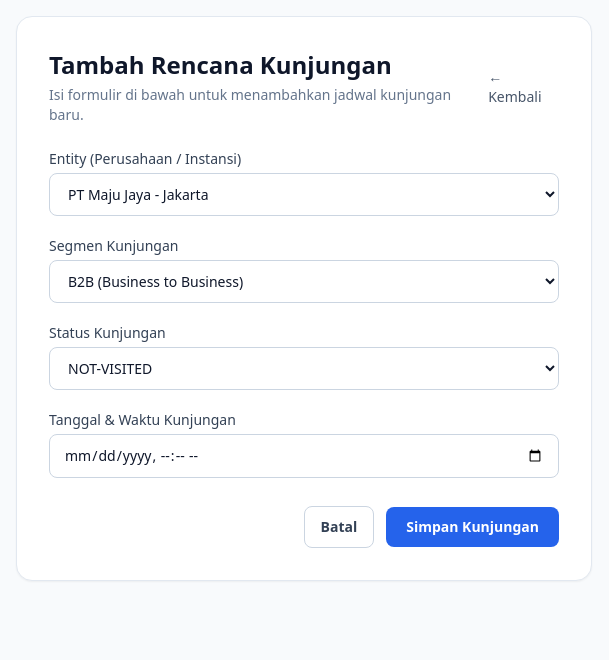
Test: TambahPengunjungPage (Halaman Tambah Rencana Kunjungan) › 2. Validasi Input (Client-side Validation) › menampilkan pesan error validasi apabila Segmen bukan bernilai B2B atau B2G dan tidak memanggil API POST
The width and height of the screenshot is (609, 660).
Check: the dropdown labelled "Entity (Perusahaan / Instansi)" shows "PT Maju Jaya - Jakarta", box x1=49 y1=173 x2=559 y2=216
Note: Isi tanggal kunjungan dengan nilai valid
In the field labelled "Tanggal & Waktu Kunjungan": (304, 456) x1=49 y1=434 x2=559 y2=478, type "2026-11-20T10:30"
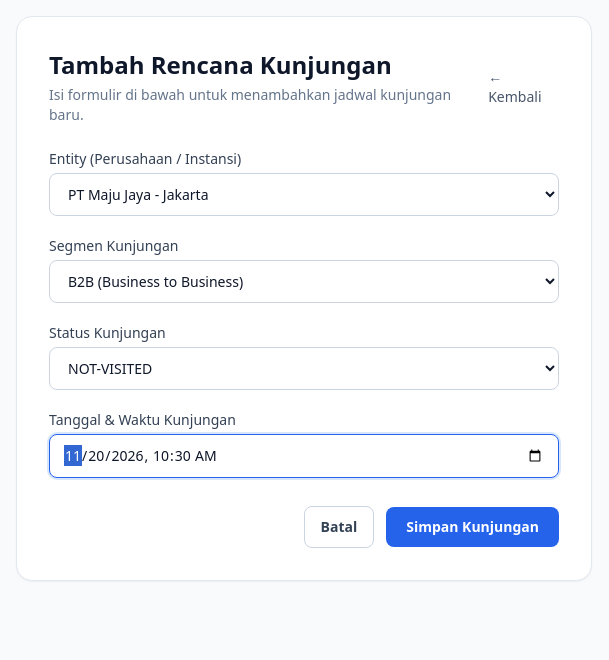
Select "B2C" in the dropdown labelled "Segmen Kunjungan": (304, 282) x1=49 y1=260 x2=559 y2=303
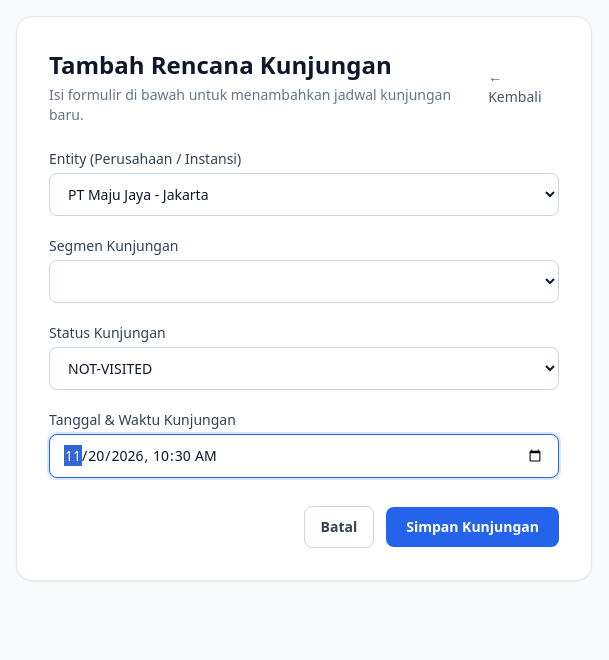
Note: Klik tombol submit
Click the button "Simpan Kunjungan": (473, 527) x1=386 y1=507 x2=559 y2=547
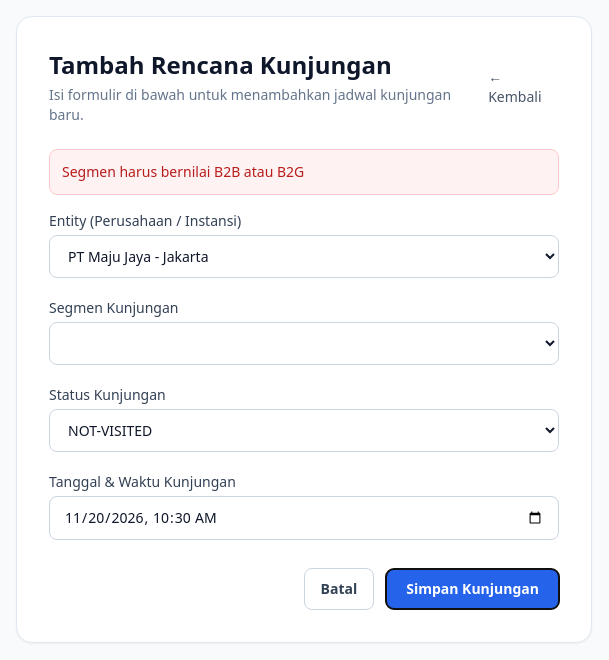
Check: the message reads "Segmen harus bernilai B2B atau B2G", box x1=62 y1=162 x2=304 y2=181
